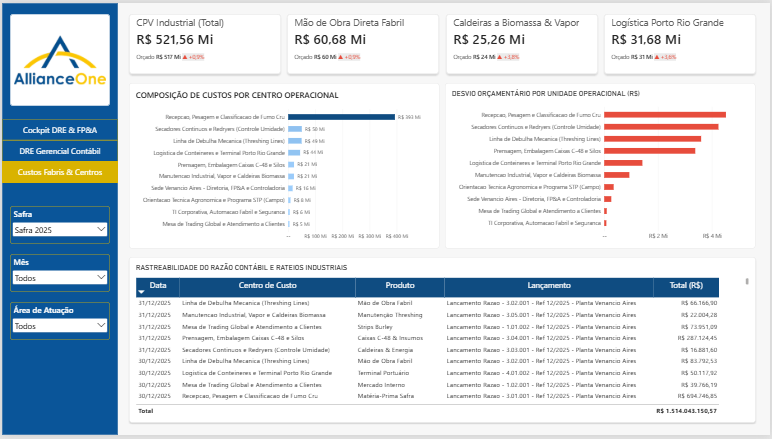

The page's visual inventory and layout, read from the dashboard file:
{"tool":"powerbi","page":{"name":"Custos Fabris & Centros","canvas":[1920,1080],"ordinal":2},"visuals":[{"type":"shape","box":[0,0,290,1080],"z":0},{"type":"pageNavigator","box":[0,288.8,290,160],"z":1000},{"type":"slicer","fields":{"Values":["Dim_Calendario.Safra_Ano"]},"box":[20,506.7,250,95],"z":2000},{"type":"slicer","fields":{"Values":["Dim_Calendario.NomeMes"]},"box":[20,626.7,250,95],"z":3000},{"type":"slicer","fields":{"Values":["Dim_CentroCusto.Area_Negocio"]},"box":[20,746.7,250,95],"z":4000},{"type":"shape","box":[20,26.7,250,230],"z":5000},{"type":"image","box":[30,26.7,230,230],"z":6000},{"type":"cardVisual","fields":{"Data":["_Medidas.CPV Industrial Real"]},"box":[316.7,26.7,380,150],"z":7000},{"type":"cardVisual","fields":{"Data":["_Medidas.Custo MOD Fabril Real"]},"box":[712.8,26.7,380,150],"z":8000},{"type":"cardVisual","fields":{"Data":["_Medidas.Custo Caldeiras & Utilidades Real"]},"box":[1108.9,26.7,380,150],"z":9000},{"type":"cardVisual","fields":{"Data":["_Medidas.Custo Fretes Porto Rio Grande Real"]},"box":[1505,26.7,380,150],"z":10000},{"type":"clusteredBarChart","title":"COMPOSIÇÃO DE CUSTOS POR CENTRO OPERACIONAL","fields":{"Category":["Dim_CentroCusto.Nome_CentroCusto"],"Y":["_Medidas.Realizado Total"]},"box":[317.1,200,775.7,414.3],"z":11000},{"type":"tableEx","title":"RASTREABILIDADE DO RAZÃO CONTÁBIL E RATEIOS INDUSTRIAIS","fields":{"Values":["Dim_Calendario.Data","Dim_CentroCusto.Nome_CentroCusto","Dim_PlanoContas.Nome_Produto_Curto","Fatos_Lancamentos_Realizados.Historico_Contabil","_Medidas.Realizado Total"]},"box":[317.1,635.7,1567.1,414.3],"z":12000},{"type":"barChart","title":"DESVIO ORÇAMENTÁRIO POR UNIDADE OPERACIONAL (R$)","fields":{"Category":["Dim_CentroCusto.Nome_CentroCusto"],"Y":["_Medidas.Variancia Nominal $"]},"box":[1108.6,200,775.7,414.3],"z":13000}]}

Visuals, with their boxes on the page's 1920x1080 design canvas (x1, y1, x2, y2). These are canvas units, not pixel positions in the 772x439 screenshot, which may show the page scaled, cropped or inside an application window:
shape: locate(0, 0, 290, 1080)
pageNavigator: locate(0, 289, 290, 449)
slicer - Dim_Calendario.Safra_Ano: locate(20, 507, 270, 602)
slicer - Dim_Calendario.NomeMes: locate(20, 627, 270, 722)
slicer - Dim_CentroCusto.Area_Negocio: locate(20, 747, 270, 842)
shape: locate(20, 27, 270, 257)
image: locate(30, 27, 260, 257)
cardVisual - _Medidas.CPV Industrial Real: locate(317, 27, 697, 177)
cardVisual - _Medidas.Custo MOD Fabril Real: locate(713, 27, 1093, 177)
cardVisual - _Medidas.Custo Caldeiras & Utilidades Real: locate(1109, 27, 1489, 177)
cardVisual - _Medidas.Custo Fretes Porto Rio Grande Real: locate(1505, 27, 1885, 177)
"COMPOSIÇÃO DE CUSTOS POR CENTRO OPERACIONAL" clusteredBarChart: locate(317, 200, 1093, 614)
"RASTREABILIDADE DO RAZÃO CONTÁBIL E RATEIOS INDUSTRIAIS" tableEx: locate(317, 636, 1884, 1050)
"DESVIO ORÇAMENTÁRIO POR UNIDADE OPERACIONAL (R$)" barChart: locate(1109, 200, 1884, 614)
